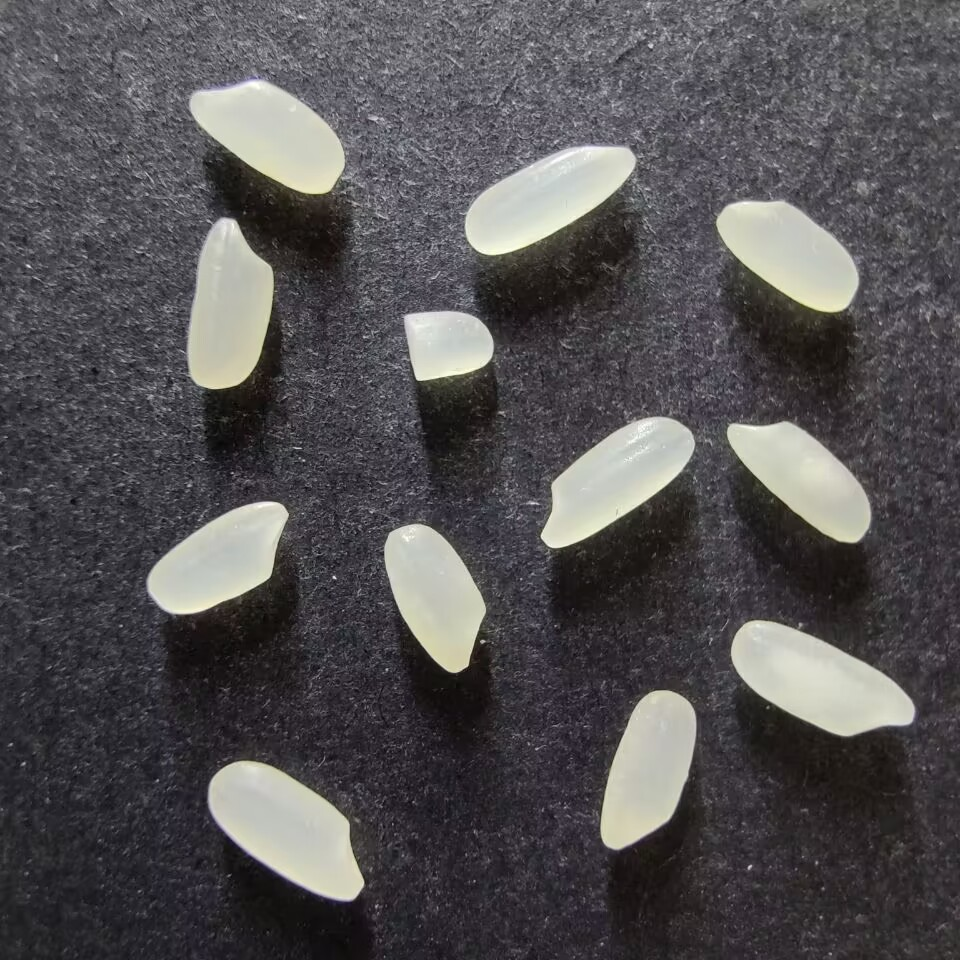broken: (403, 310, 493, 381)
rice: (206, 760, 365, 902), (730, 620, 914, 737), (539, 416, 695, 548), (464, 144, 635, 256), (725, 420, 871, 543), (189, 80, 345, 195), (146, 500, 289, 615), (715, 199, 857, 312), (599, 690, 696, 850), (383, 524, 487, 673), (186, 217, 273, 389)
